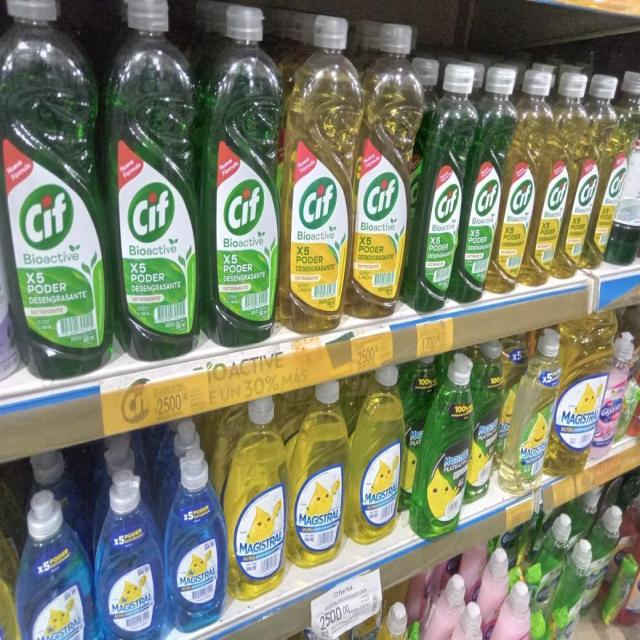cif_conc_bot_amarilla: (282, 12, 351, 333), (353, 20, 413, 319), (502, 68, 540, 292), (539, 68, 574, 284), (572, 72, 603, 274)
cif_conc_botella_verde: (0, 0, 103, 383), (106, 1, 200, 358), (203, 0, 280, 348), (416, 60, 466, 310), (465, 64, 504, 300)
magistral_con_amarillo: (228, 395, 288, 601), (291, 379, 348, 570), (352, 365, 404, 545), (557, 320, 602, 473), (0, 480, 19, 640), (375, 601, 411, 640)
magistral_con_azul: (96, 470, 164, 640), (21, 490, 93, 640), (167, 450, 226, 632)
